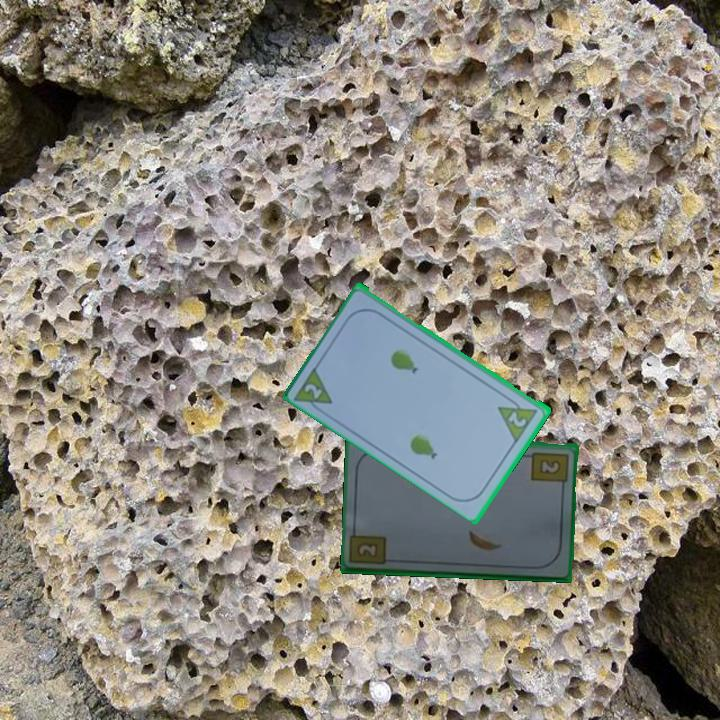2b: (528, 449, 571, 491), (356, 539, 381, 561)
2p: (291, 362, 336, 418), (505, 408, 530, 430)
